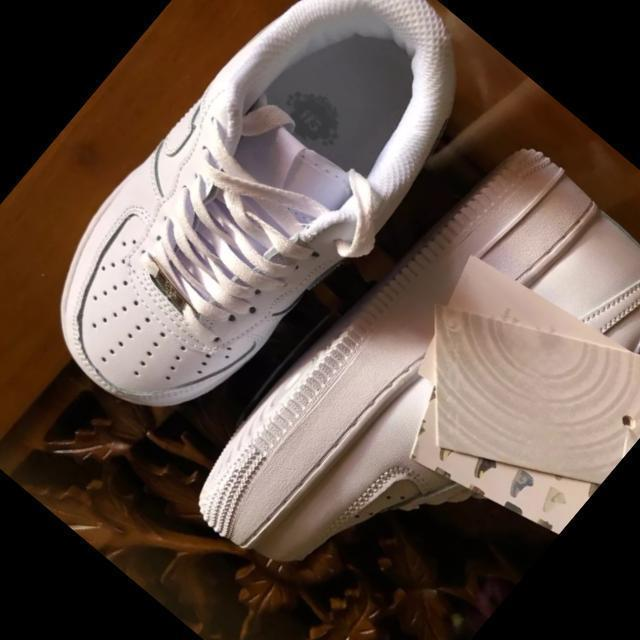nike fake air force: (4, 0, 505, 462)
